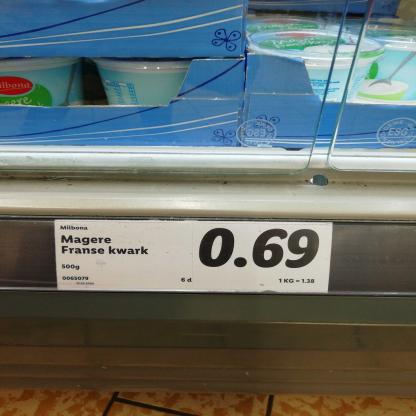prtg: (56, 221, 334, 294)
